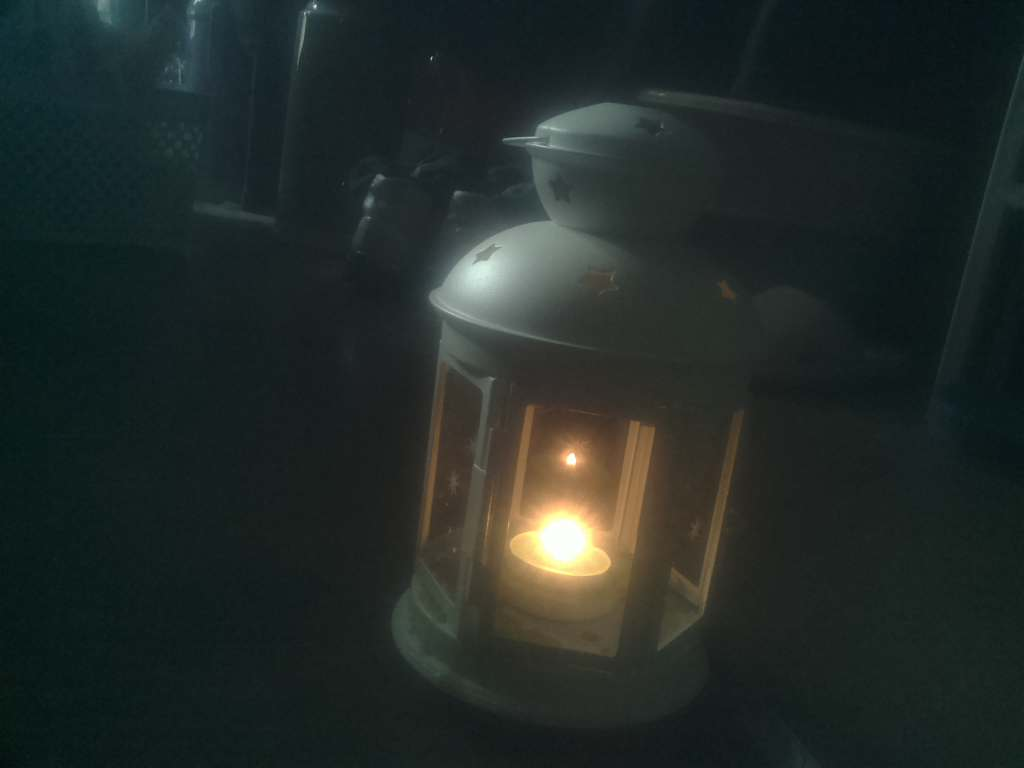fire: (506, 486, 615, 620)
